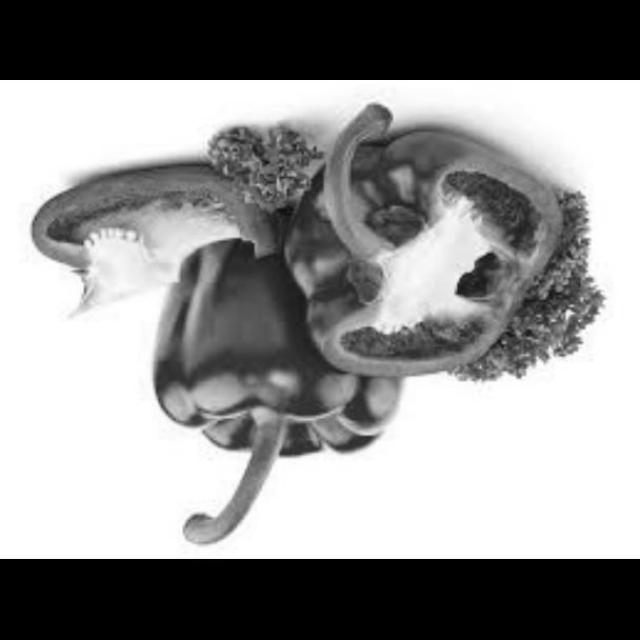bell pepper: (151, 231, 403, 548), (277, 114, 565, 385), (21, 164, 280, 327)
